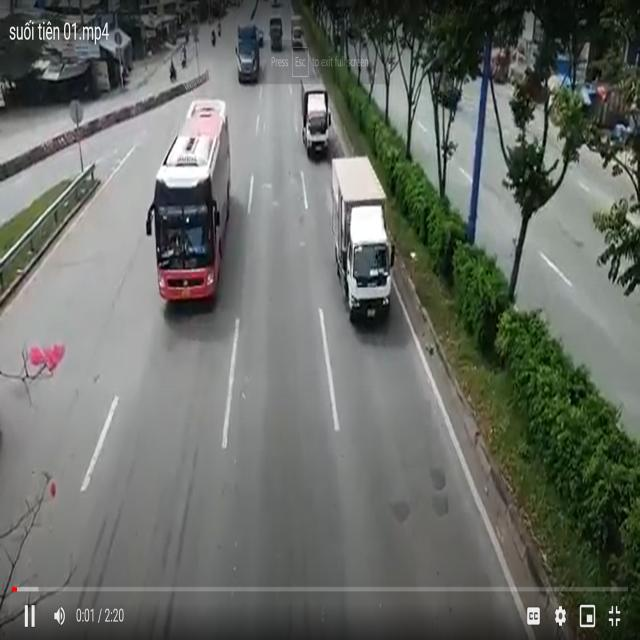bus: (154, 101, 228, 316)
truck: (331, 152, 394, 322), (299, 82, 330, 144), (236, 16, 259, 86)
